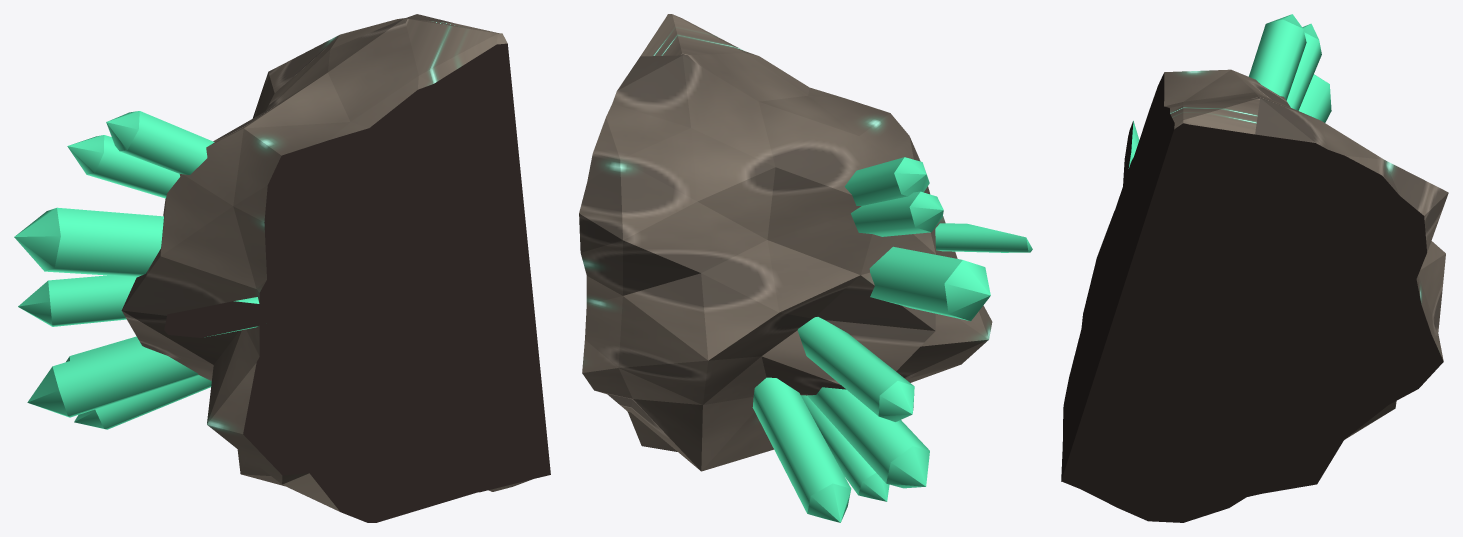
The model's file is cosmium_asteroid_debris3.obj.
3 views of the same model, side by side, from view 1: azimuth 30°, elevation 25°; view 2: azimuth 150°, elevation 25°; view 3: azimuth 270°, elevation 25° (orthographic). The views are drawn at different scales.
Visible parts, largest first — view 1: rock, crystal; view 2: rock, crystal; view 3: rock, crystal.
Boxes of the visible parts, x1,y1,x2,y2 form: rock: (121, 14, 550, 522); crystal: (14, 111, 268, 429); rock: (579, 14, 992, 471); crystal: (752, 157, 1032, 522); rock: (1061, 69, 1448, 522); crystal: (1123, 14, 1331, 188).
Size of the model in its own units: 68.35 by 68.9 by 58.25.
3 materials, 1 textured.
